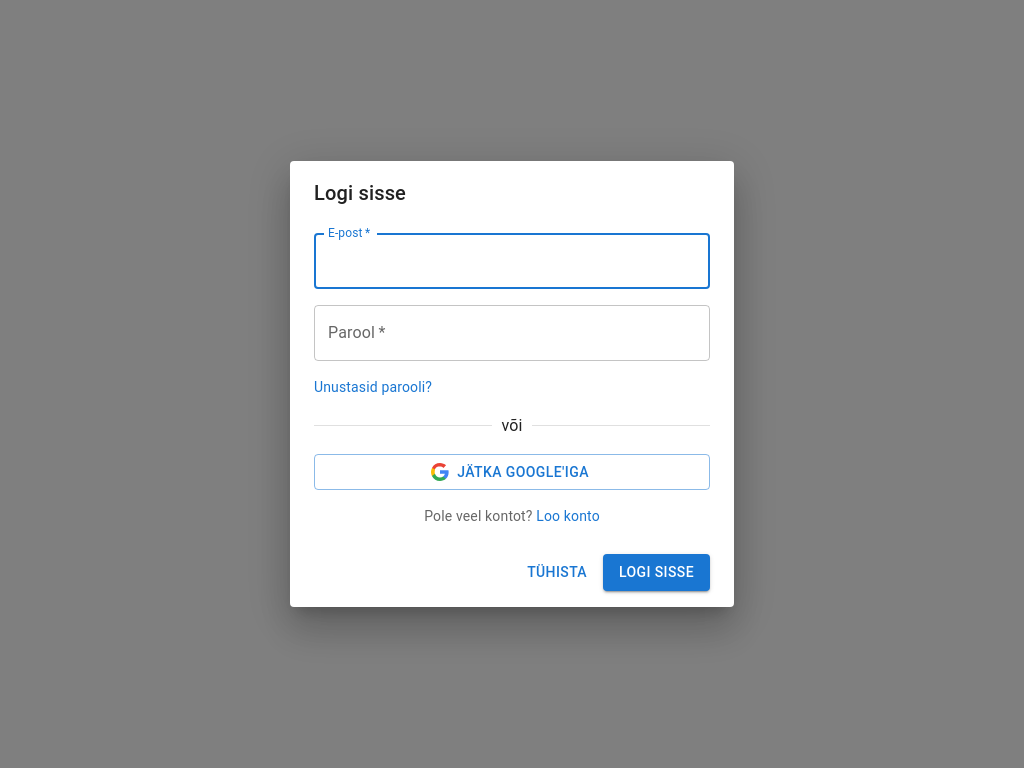
Scenario: LoginDialog › login view › switches to forgot password view
This screenshot has width=1024, height=768.
Step 1. Click the text "Unustasid parooli?" → (373, 388), box 314,378 -> 432,398
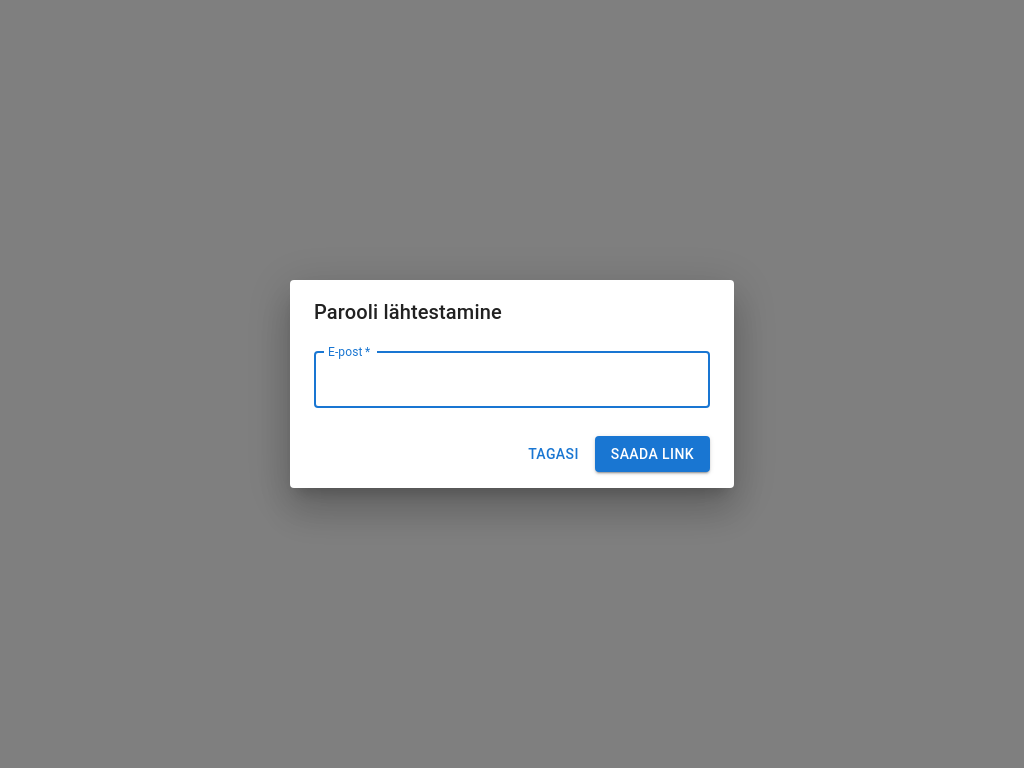
Result: the heading "Parooli lähtestamine" is shown at 314,300 -> 502,324
